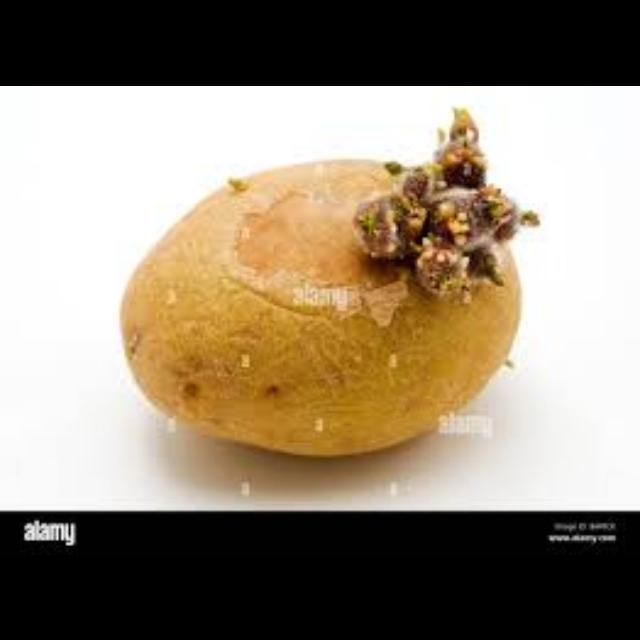Sprouted potato: (94, 97, 542, 485)
